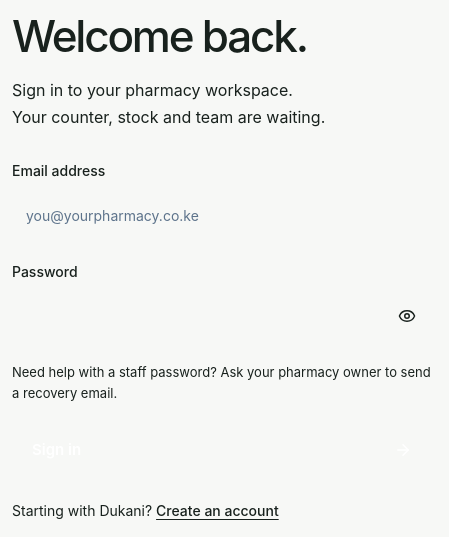
Test: Pharmacy sign in › reveals and hides the entered password without changing it
Type "owner@example.com" into the field labelled "Email address" at (222, 215), box x1=12 y1=189 x2=432 y2=241
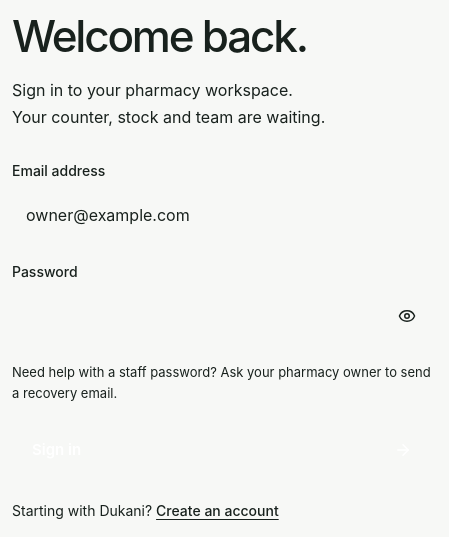
Type "password1" into the password field labelled "Password" at (222, 316), box x1=12 y1=290 x2=432 y2=342
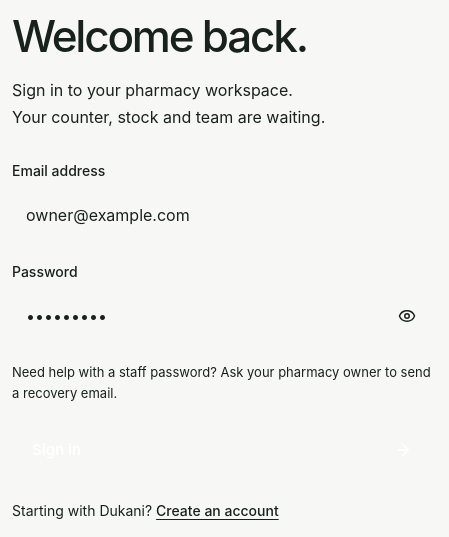
Click the button named "Show password" at (407, 316), box x1=385 y1=294 x2=429 y2=338
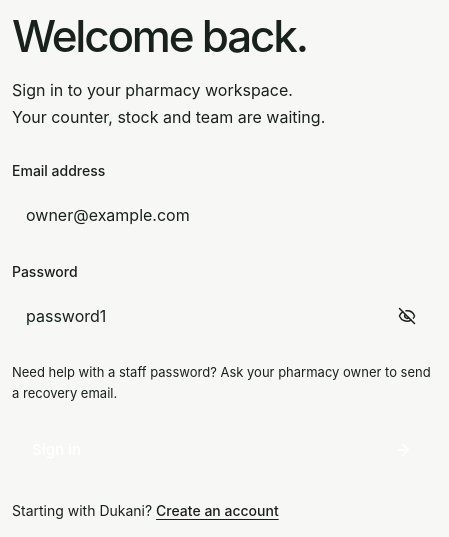
Expected: the field labelled "Password" shows its text, x1=12 y1=290 x2=432 y2=342
Click the button named "Hide password" at (407, 316), box x1=385 y1=294 x2=429 y2=338
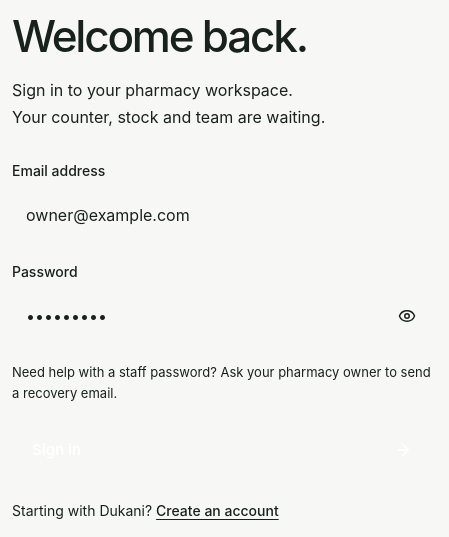
Expected: the password field labelled "Password" hides its text, x1=12 y1=290 x2=432 y2=342
